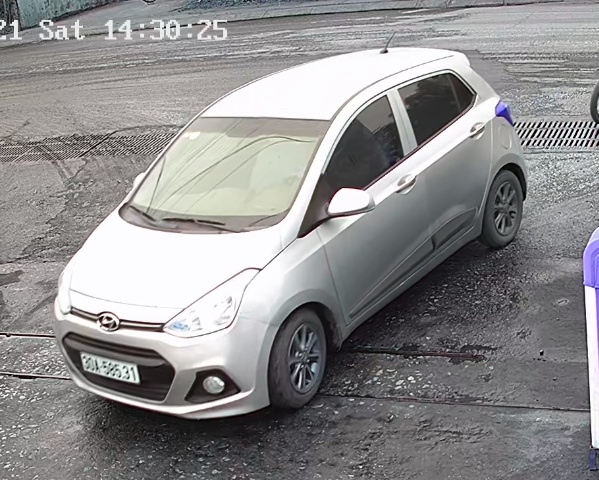vehicle plate: (74, 349, 149, 386)
